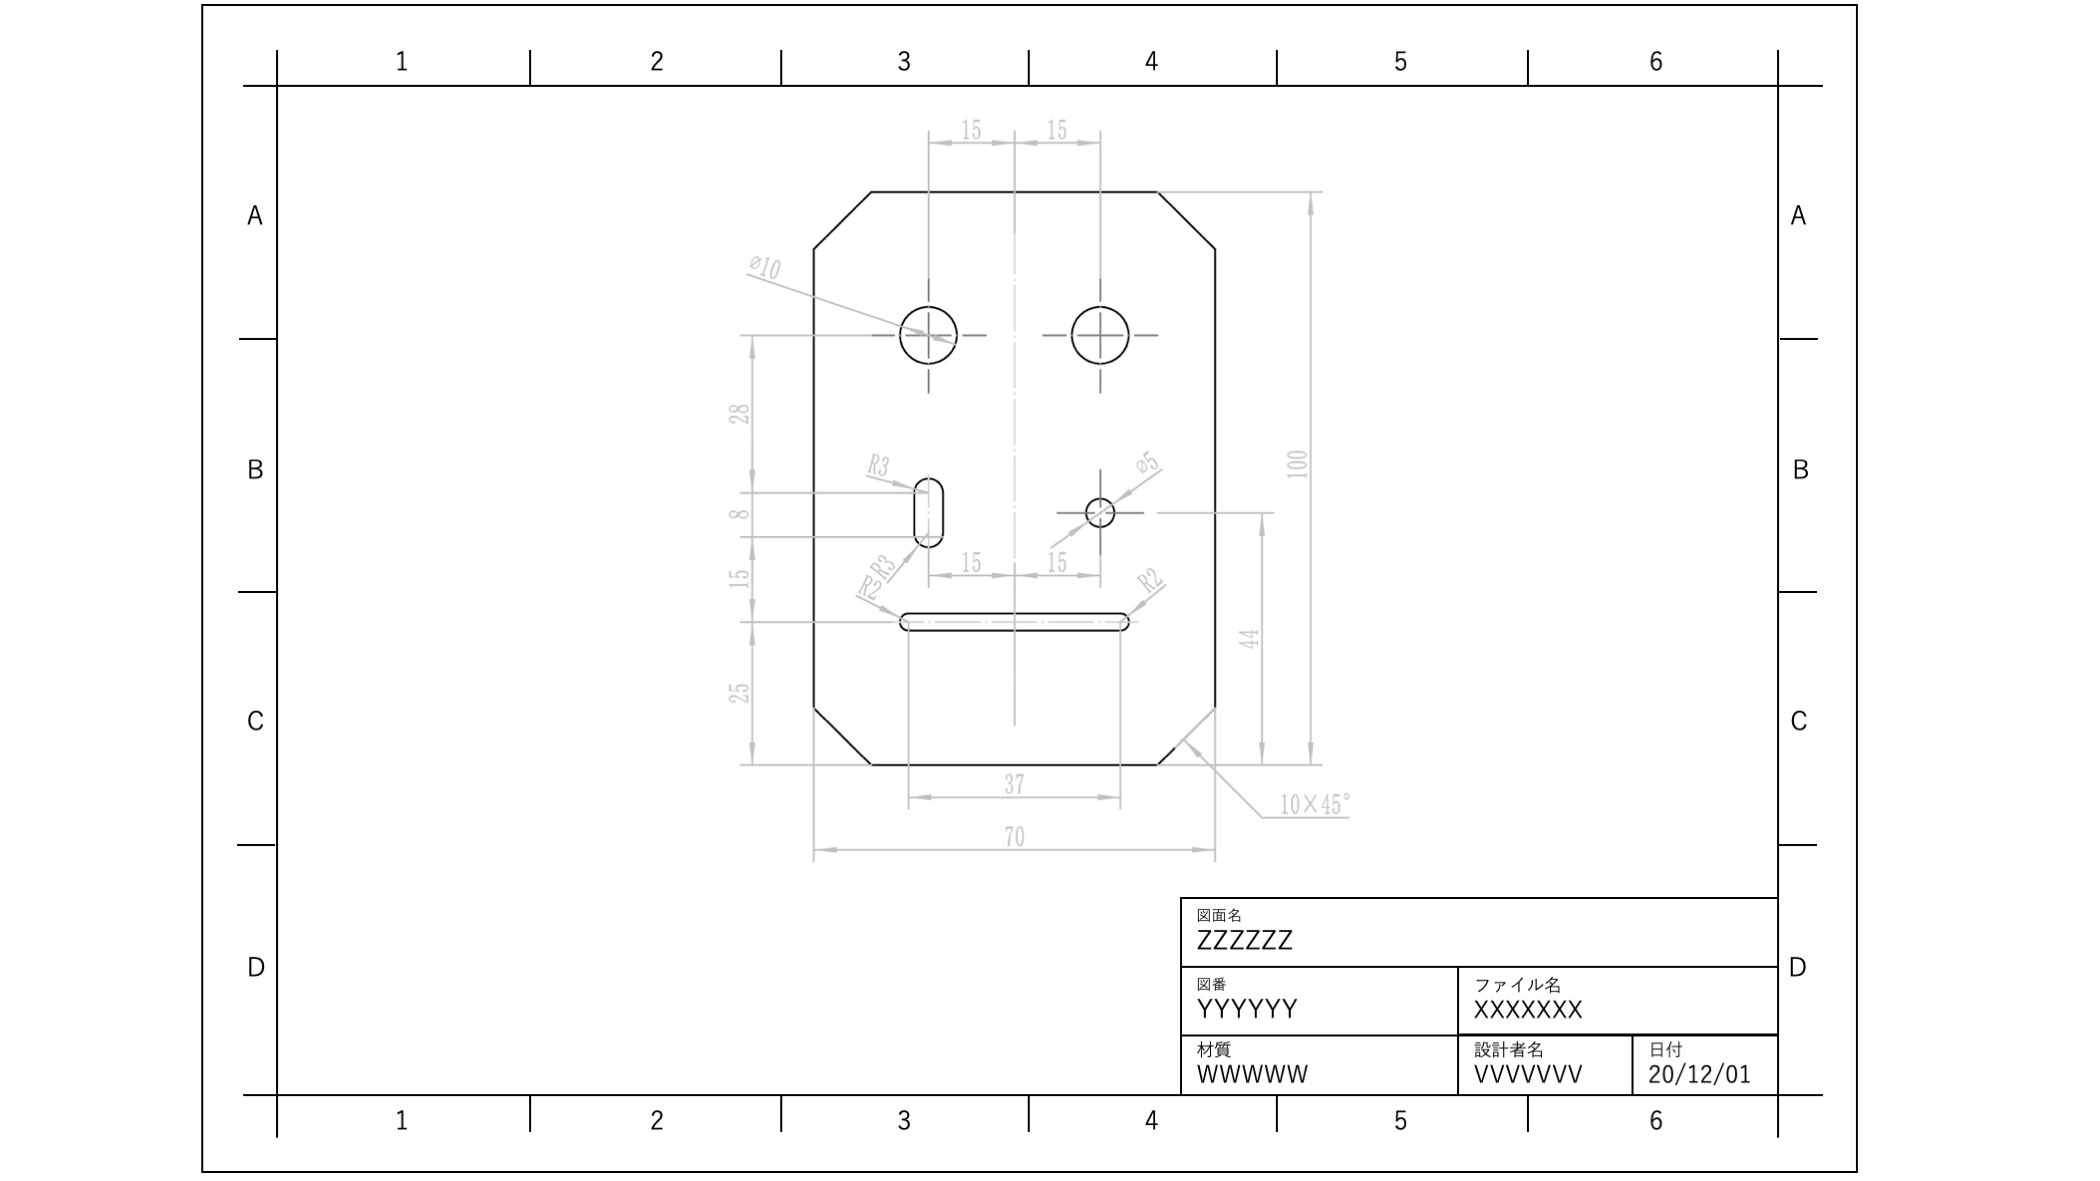circle: (1064, 286, 1138, 375), (896, 298, 968, 373), (1080, 487, 1131, 535)
round_rectangle: (890, 601, 1147, 645), (904, 464, 950, 562)
